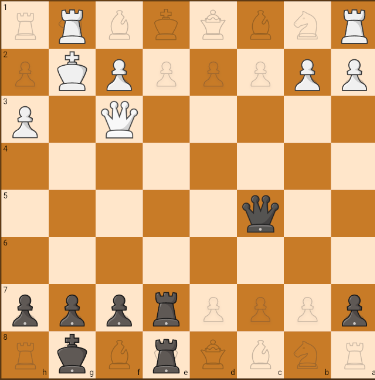bk: (53, 333, 95, 378)
bp: (49, 50, 95, 95), (333, 285, 374, 330), (4, 288, 46, 329), (96, 288, 138, 329), (54, 289, 90, 329)
bq: (241, 192, 283, 236)
br: (143, 337, 190, 377), (149, 288, 184, 330)
wp: (4, 102, 46, 142), (288, 54, 326, 95), (338, 55, 369, 93), (103, 55, 135, 91)
wq: (96, 98, 140, 142)
wr: (52, 4, 93, 47), (335, 6, 372, 47)
